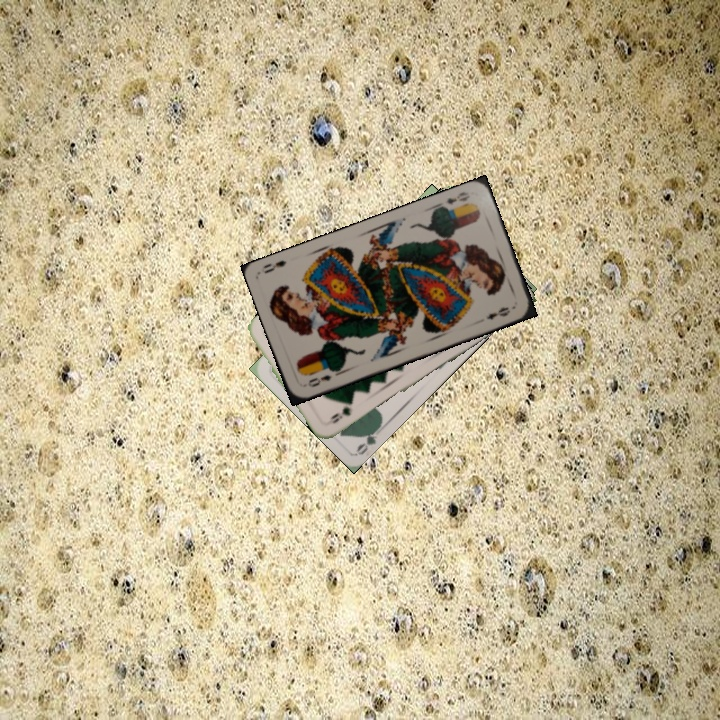EO: (435, 188, 473, 214), (304, 371, 334, 390)
G9: (328, 403, 353, 426)
GO: (353, 420, 384, 458)
